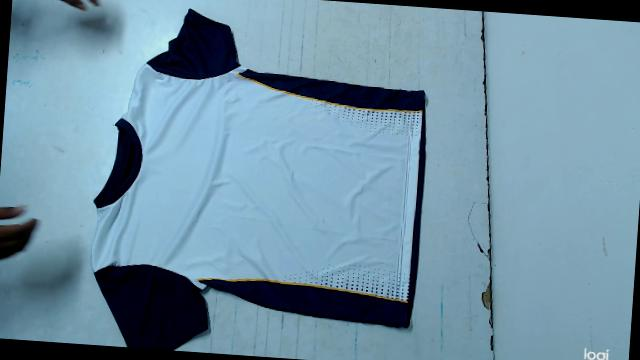new-garment: (91, 9, 425, 349)
